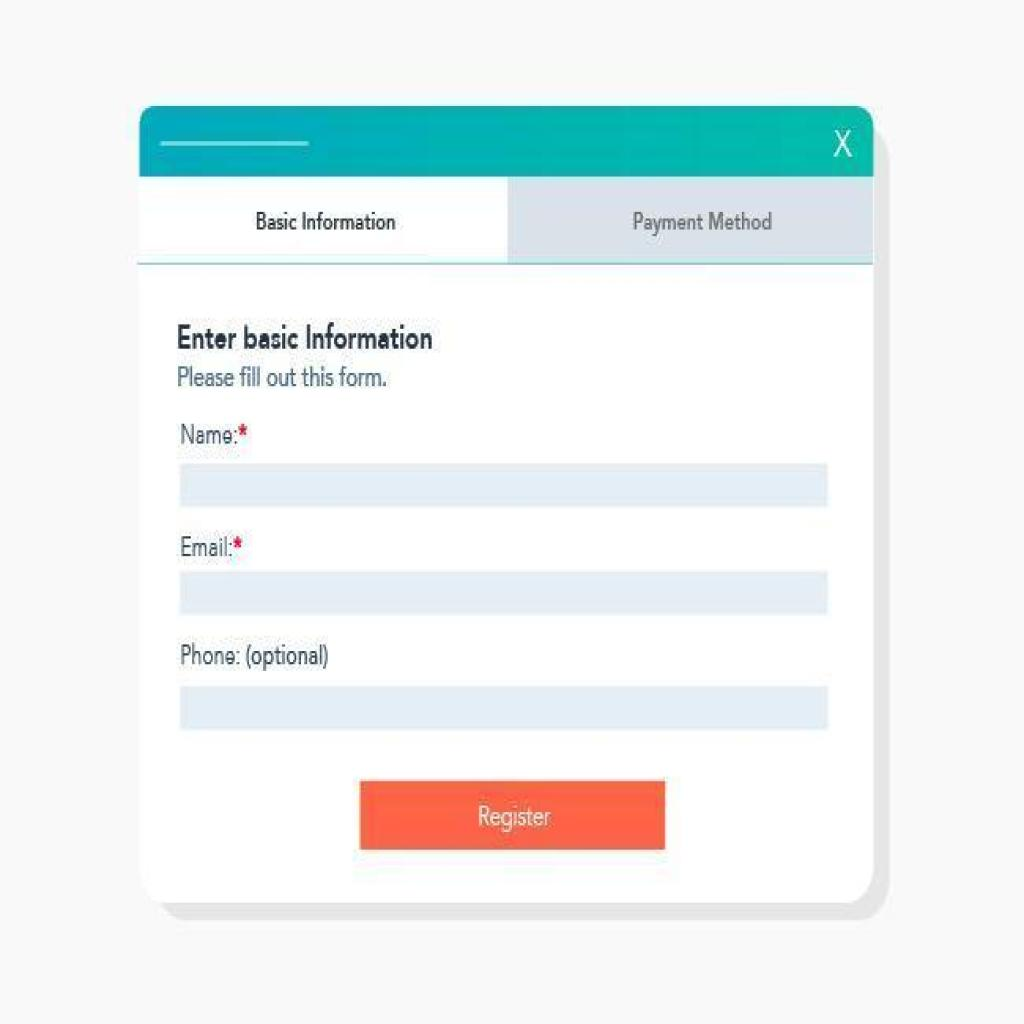button: (514, 172, 874, 269), (138, 174, 510, 267), (358, 777, 668, 852)
input: (175, 677, 825, 735), (178, 567, 829, 618), (176, 457, 828, 505)
label: (176, 314, 436, 398), (178, 638, 331, 673), (176, 527, 246, 563), (175, 417, 250, 448)
